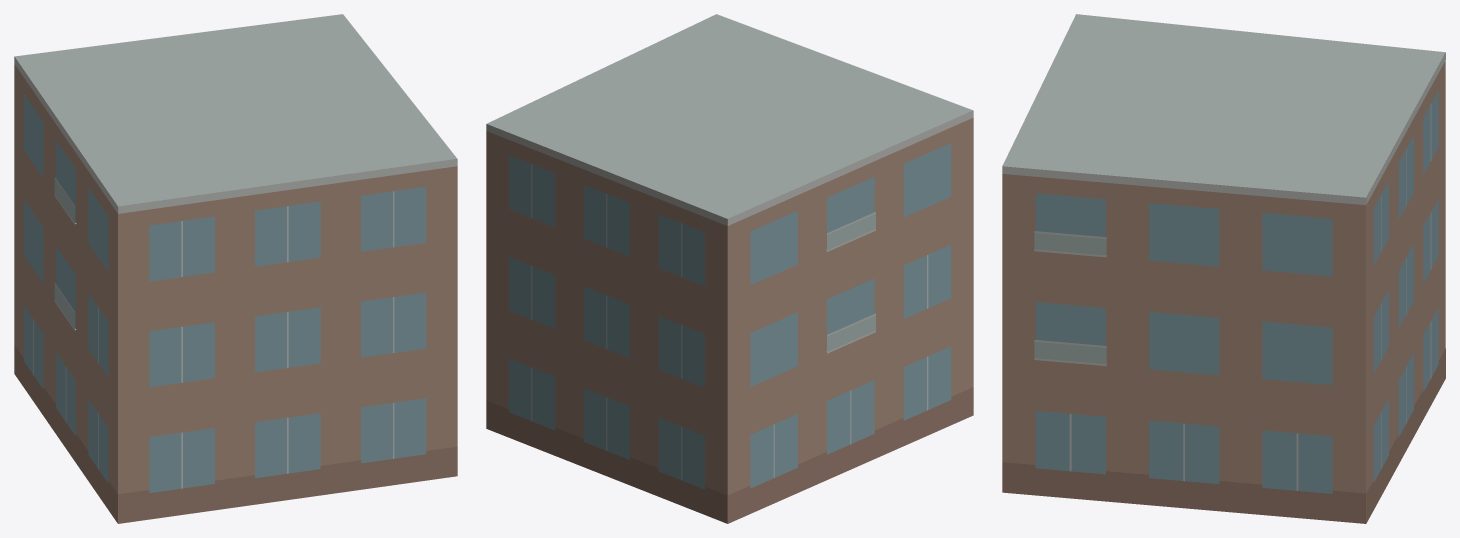
The model's file is survey-upis-33024935.glb.
3 views of the same model, side by side, from view 1: azimuth 30°, elevation 25°; view 2: azimuth 150°, elevation 25°; view 3: azimuth 270°, elevation 25° (orthographic). The views are drawn at different scales.
Visible parts, largest first — view 1: survey-upis-33024935.tmp; view 2: survey-upis-33024935.tmp; view 3: survey-upis-33024935.tmp.
Part boxes in pixels (box(x1,y1,x2,y2)): survey-upis-33024935.tmp: box(14, 14, 457, 523); survey-upis-33024935.tmp: box(486, 14, 973, 523); survey-upis-33024935.tmp: box(1002, 14, 1445, 523).
Size of the model in its own units: 12.68 by 10.5 by 12.95.
